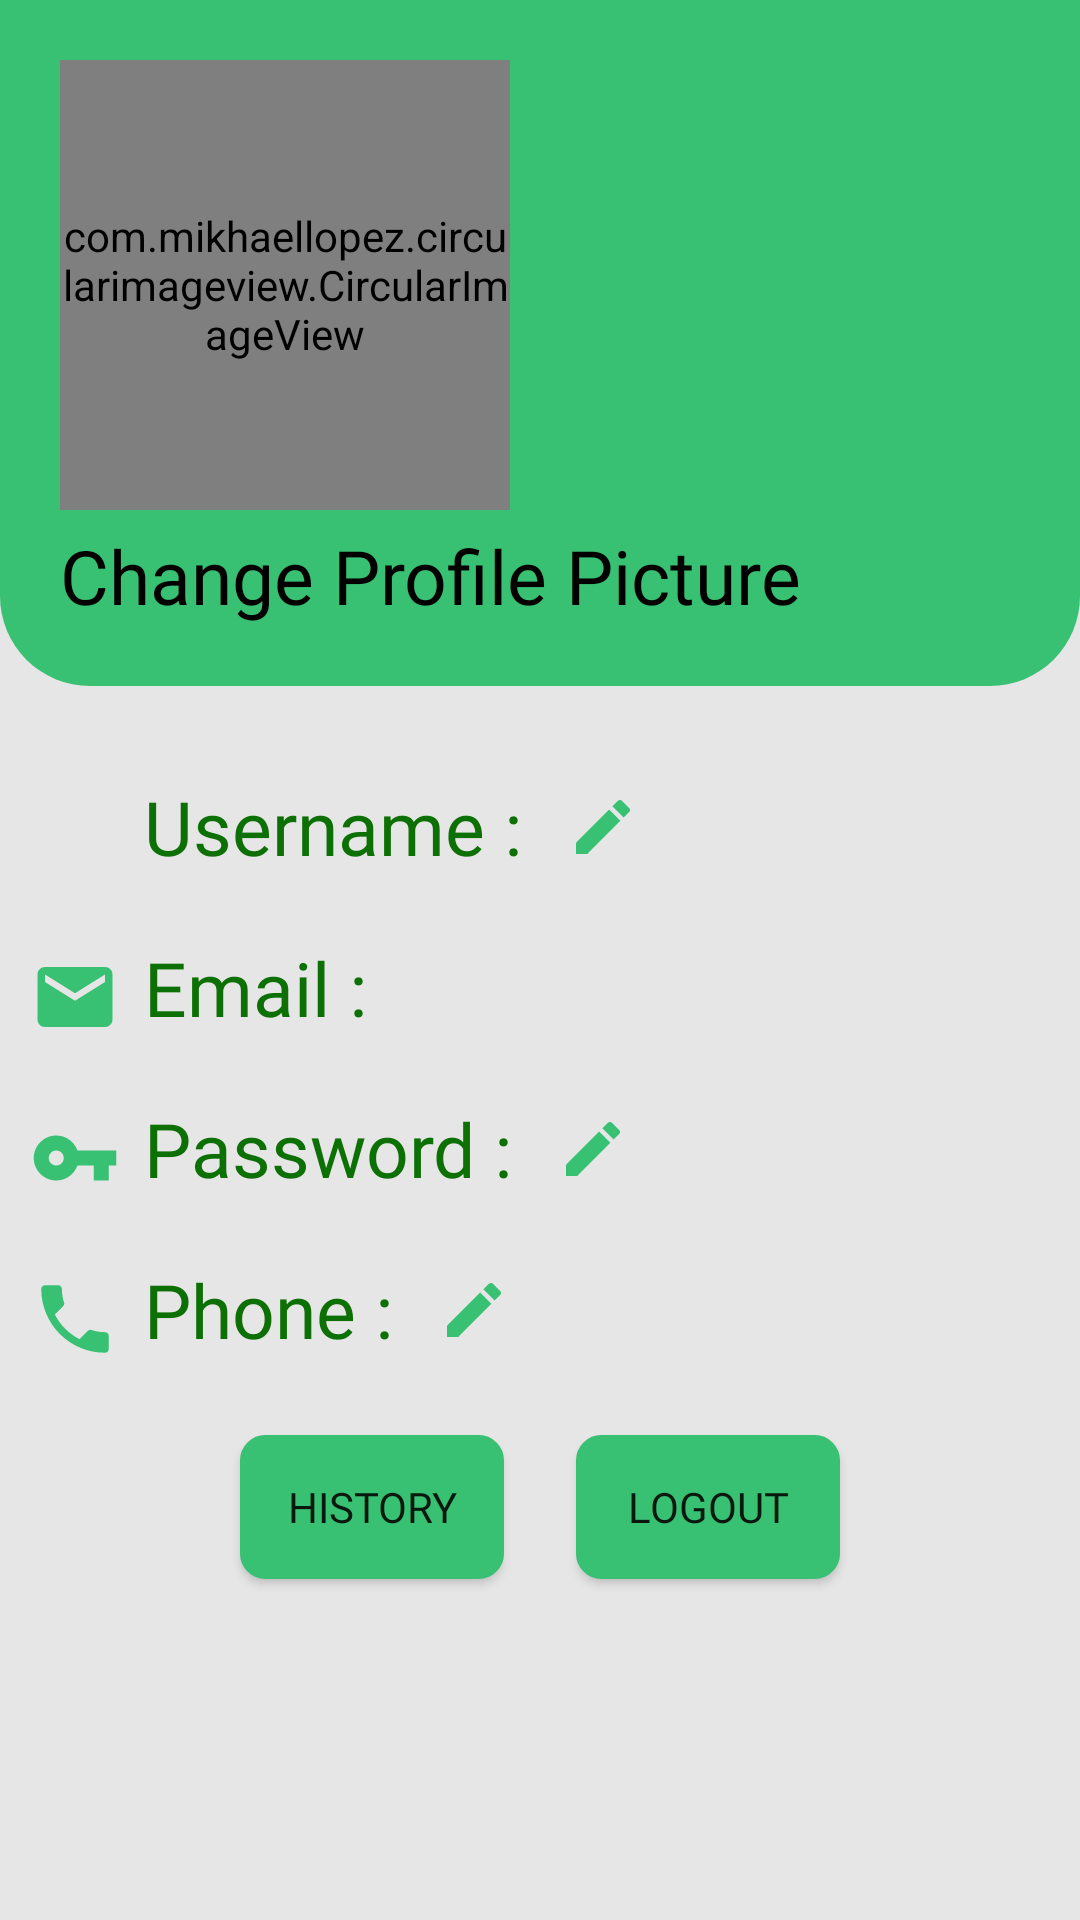

Icon bounding boxes for this 1080px x 1920px phone screenshot, format box(x1, y1, x2, y2):
edit: box(576, 800, 630, 854), box(566, 1122, 620, 1176), box(447, 1283, 501, 1337)
vpn key: box(33, 1135, 117, 1181)
